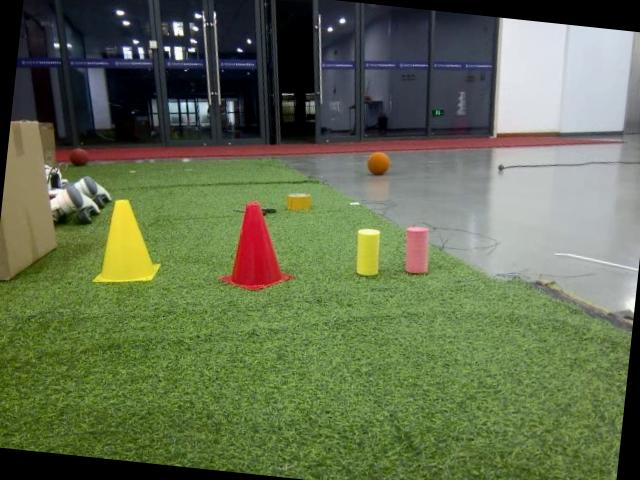orange_ball: (366, 151, 391, 177)
red_ball: (69, 146, 92, 168)
red_barrel: (218, 200, 304, 295)
red_cylinder: (401, 222, 432, 278)
yellow_barrel: (92, 196, 168, 292)
yellow_cylinder: (348, 222, 386, 280)
